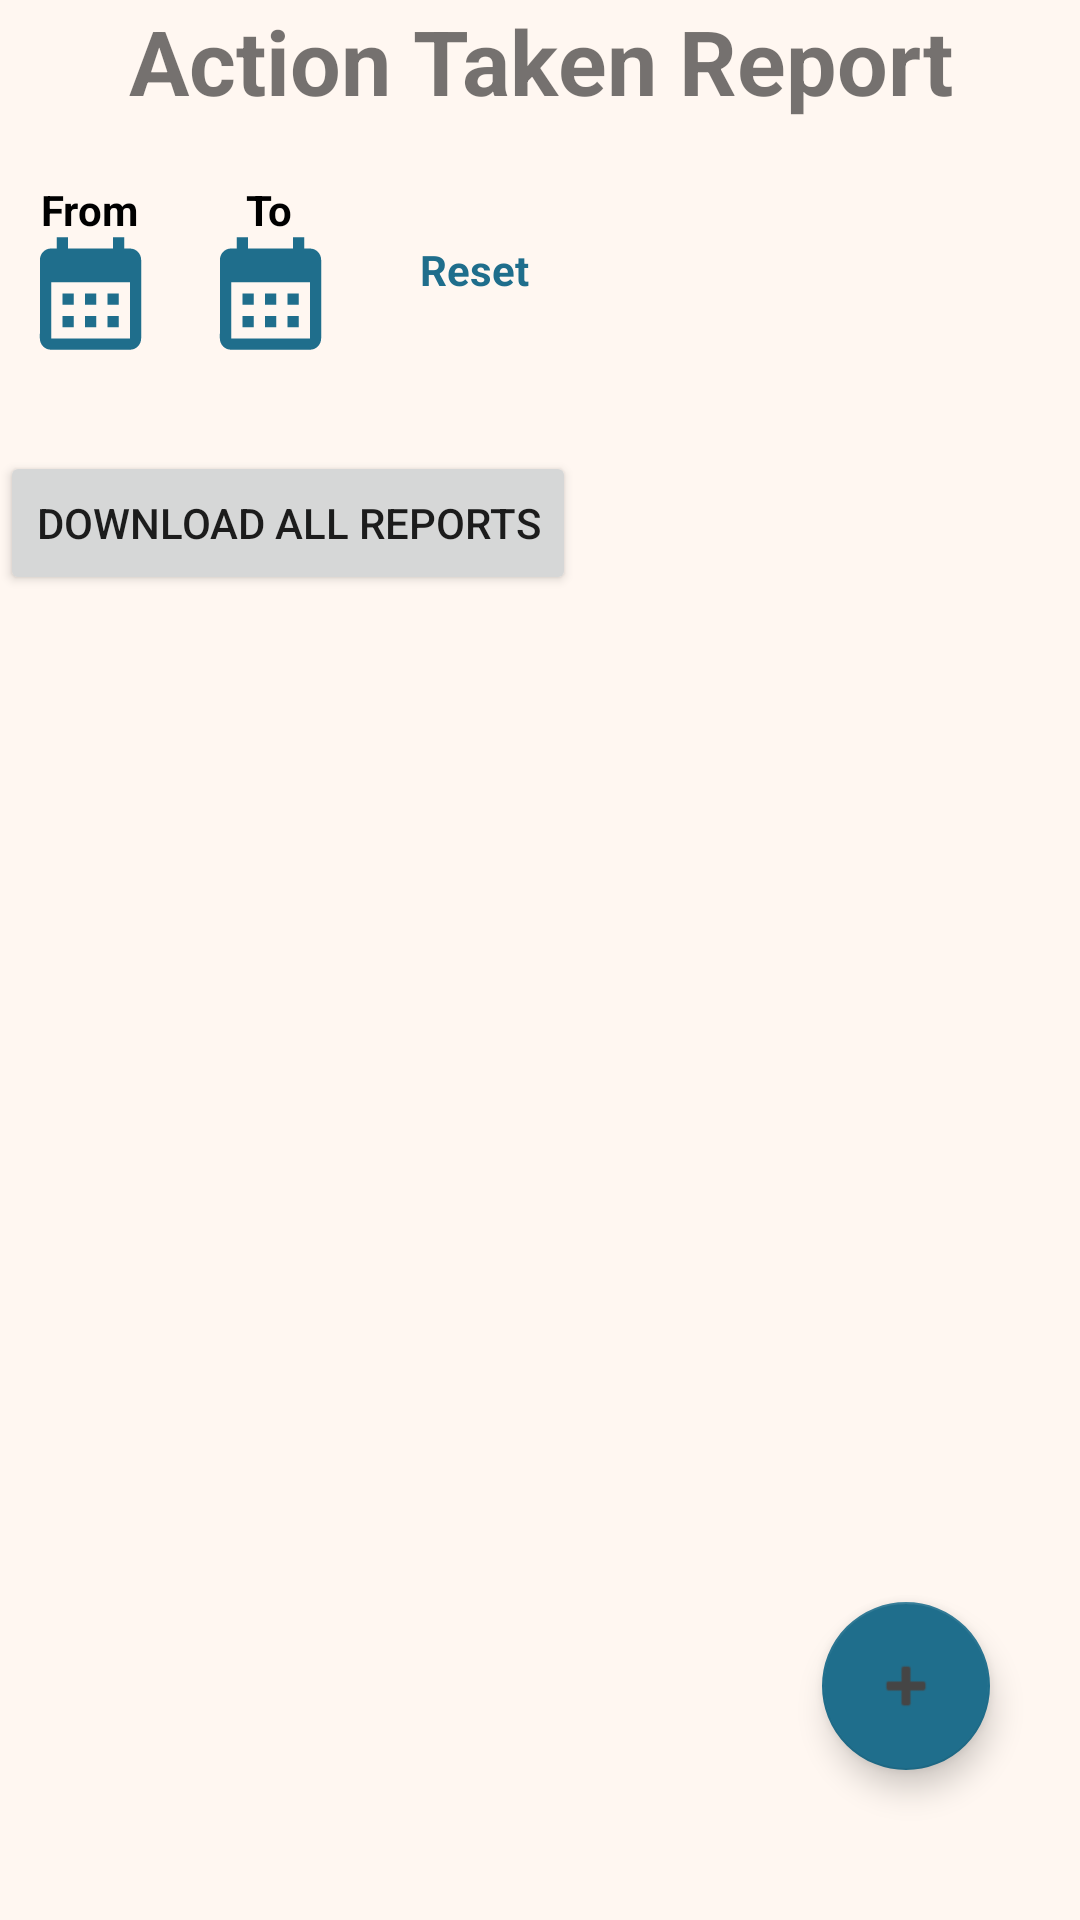

Named icons in this screenshot (1080 × 1920) and their centers, point (x, y):
add: point (906, 1686)
